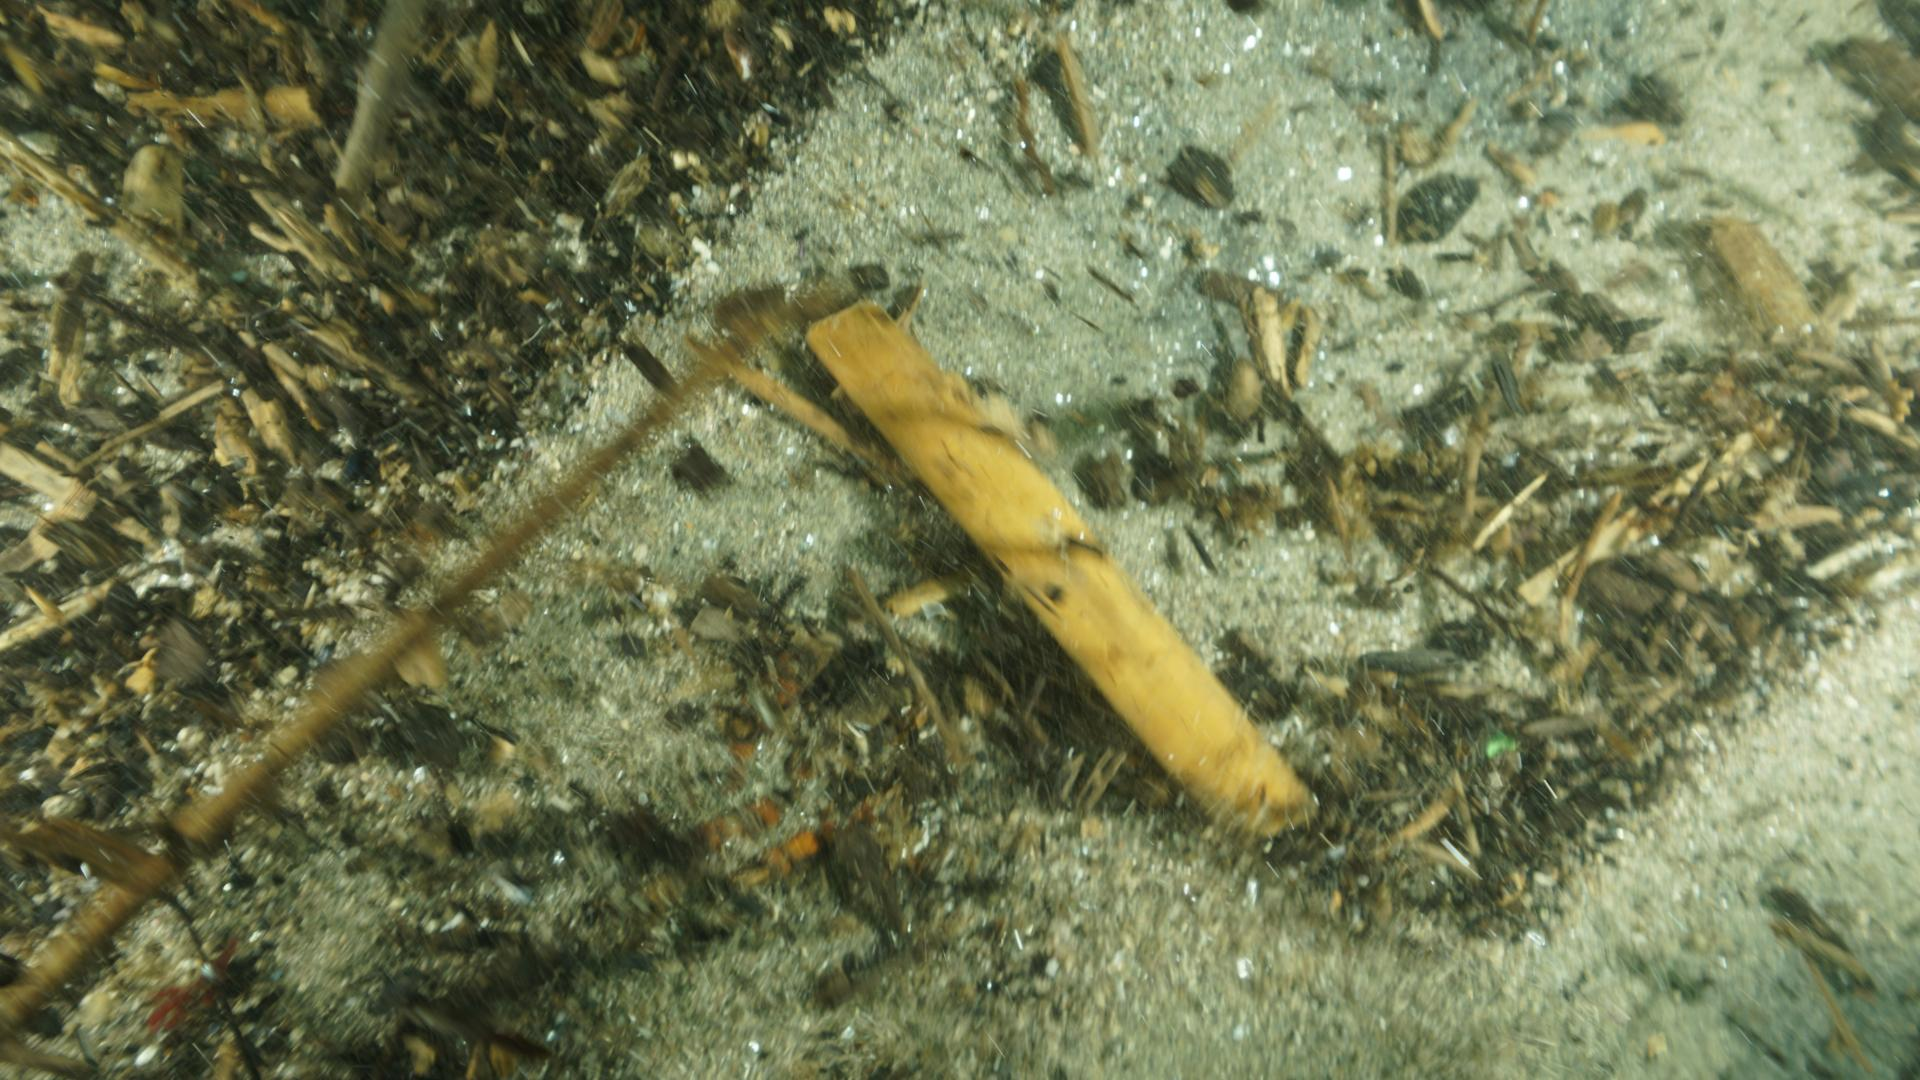wood: (803, 298, 1321, 845)
